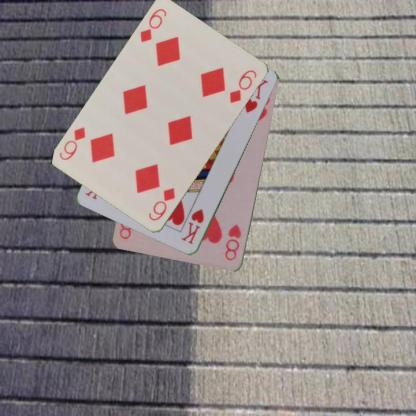6d: (146, 185, 176, 223), (138, 6, 168, 44)
8h: (222, 222, 243, 262)
Kh: (178, 206, 206, 246)
